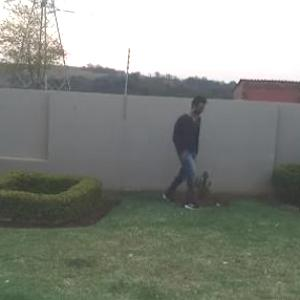follow: (168, 96, 200, 204)
